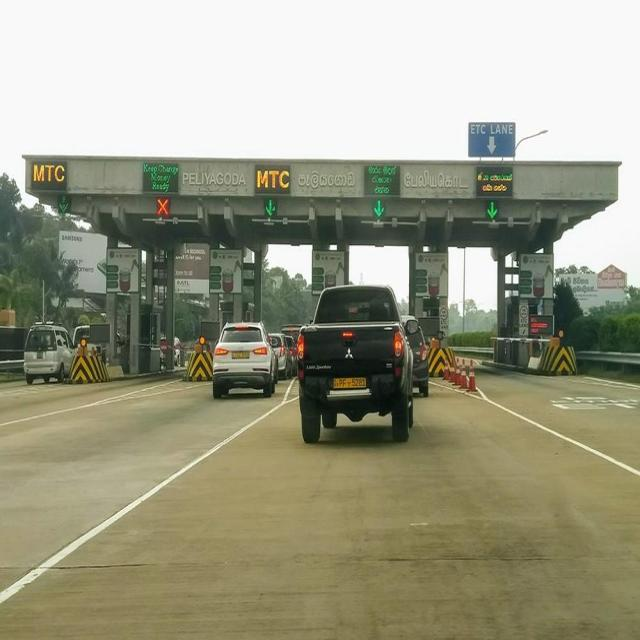license-plate: (332, 373, 366, 387)
